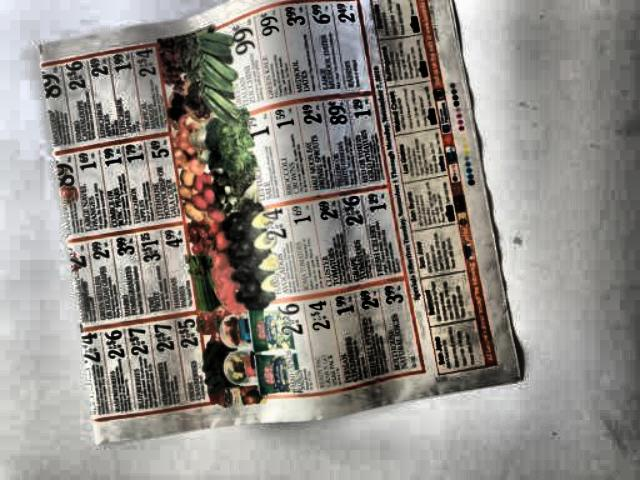Paper: (29, 0, 533, 477)
